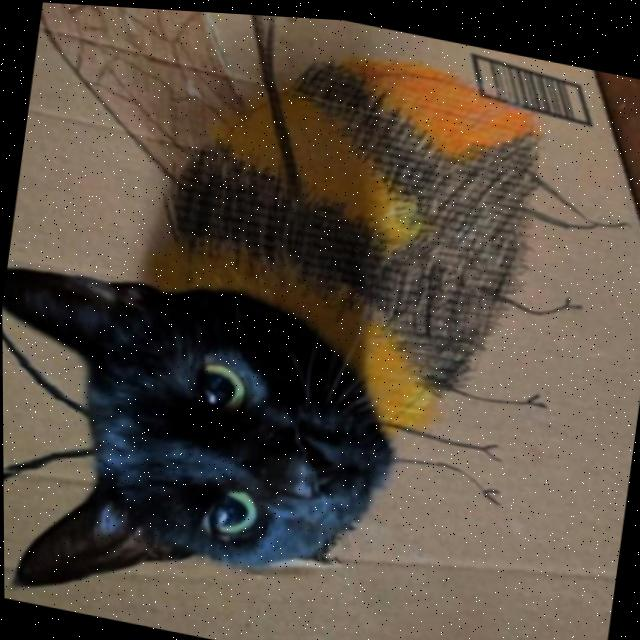Cats: (1, 215, 418, 640)
